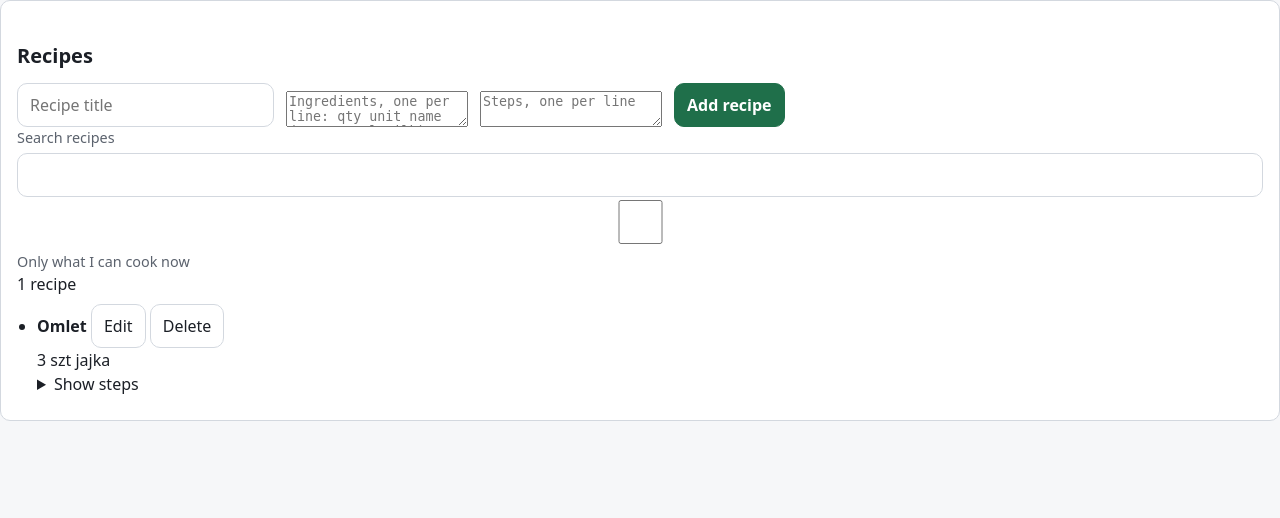
Test: RecipesView › reports a failed delete and a failed add
Click the button with aria-label "Delete Omlet": [187, 326] box [150,304,224,348]
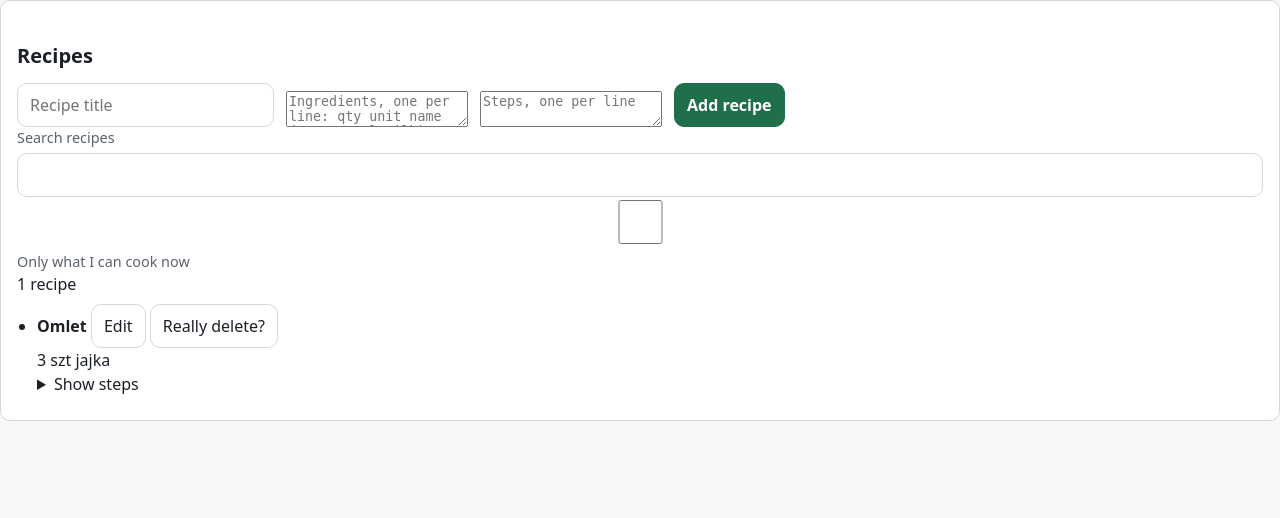
Click the button with aria-label "Really delete? Omlet": [214, 326] box [150,304,278,348]
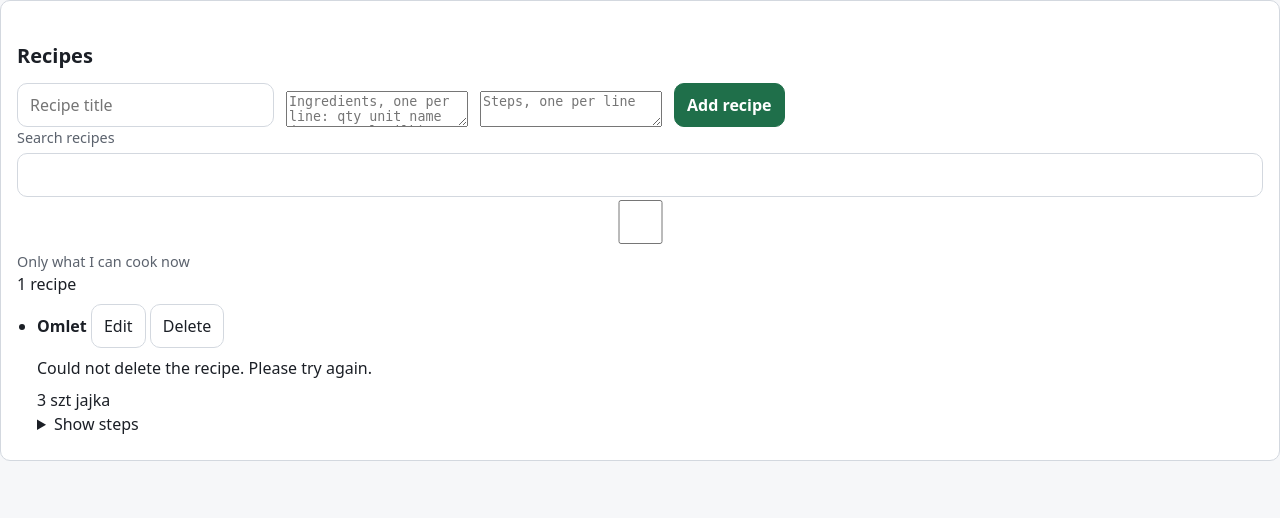
Now the text "Could not delete the recipe. Please try again." is shown, box [37,357,372,379]
In the field with placeholder "Recipe title": [146, 105] box [17,83,274,127], type "Nowy"
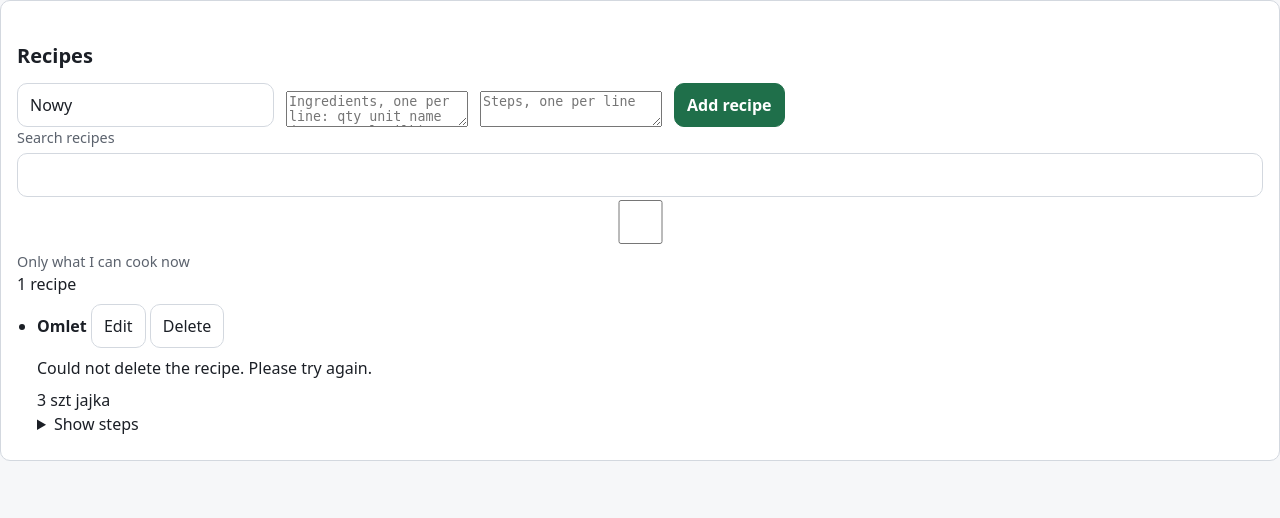
Click the button "Add recipe": [729, 105] box [674,83,784,127]
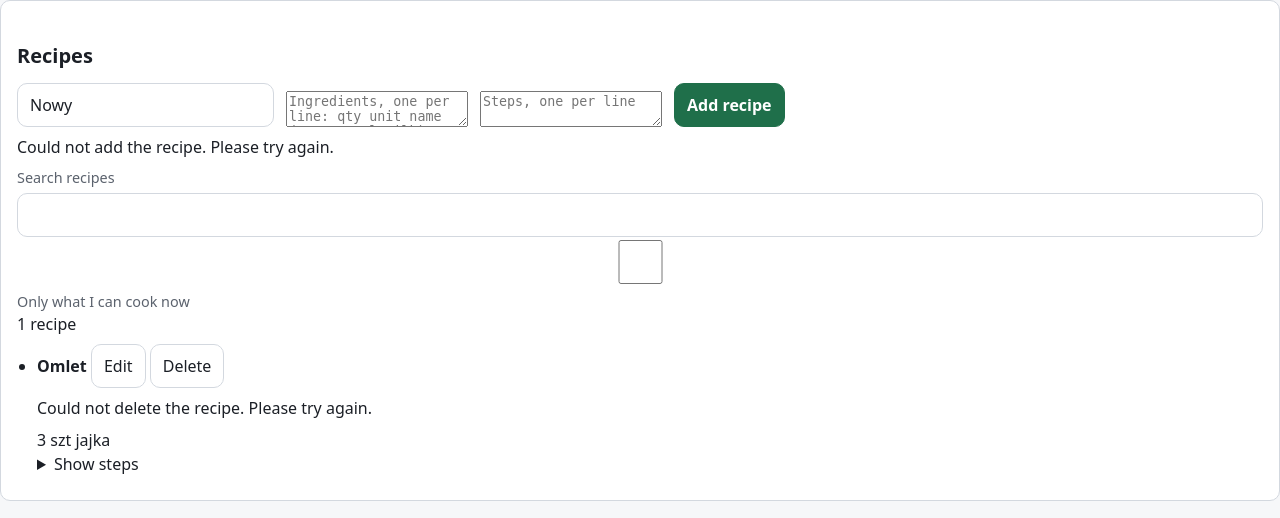
Now the text "Could not add the recipe. Please try again." is shown, box [17,136,334,158]
